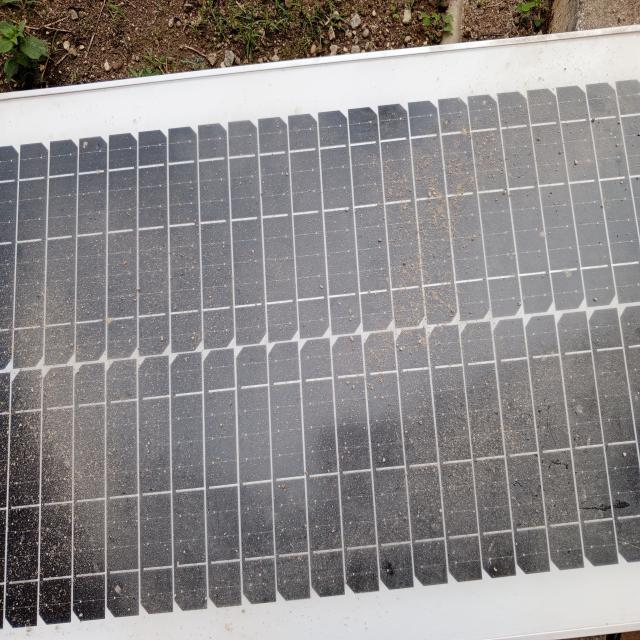Surface Contaminant: (19, 104, 639, 569)
